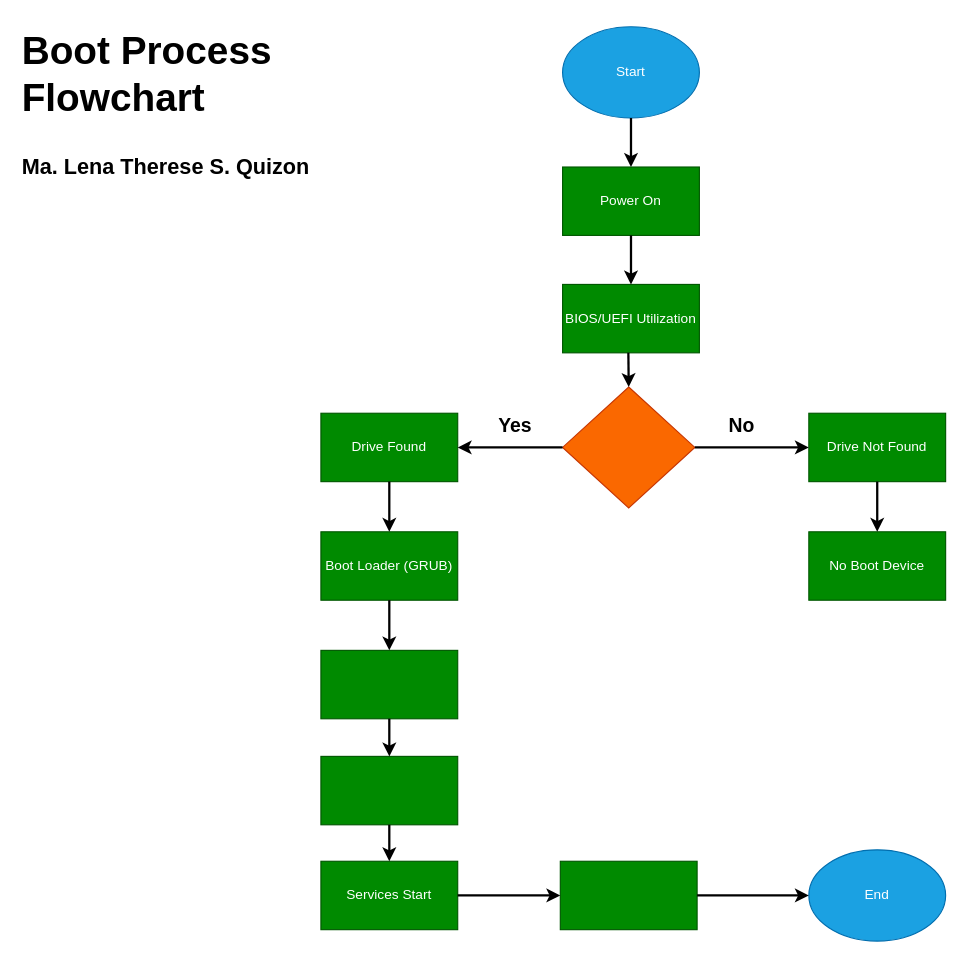
This 966x961 diagram has some shape labels left out. The centre of each missing label's shape, as x and y in pixels:
"Boot Device Detection?" goes at (x=628, y=447).
"init / systemed" goes at (x=389, y=790).
"Linux Kernel" goes at (x=389, y=684).
"Login Prompt" goes at (x=628, y=895).
